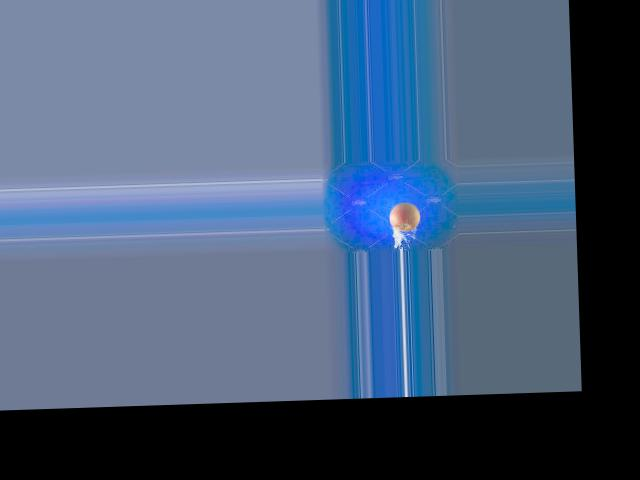tomato: (389, 202, 421, 231)
